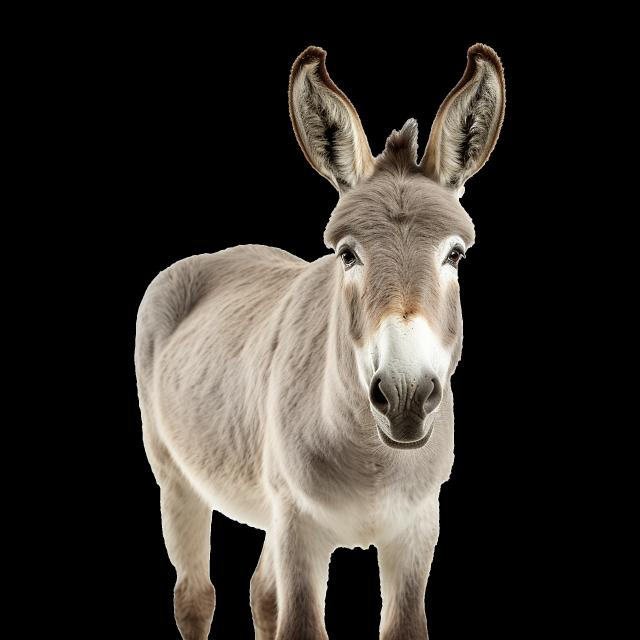Donkey: (141, 37, 509, 640)
